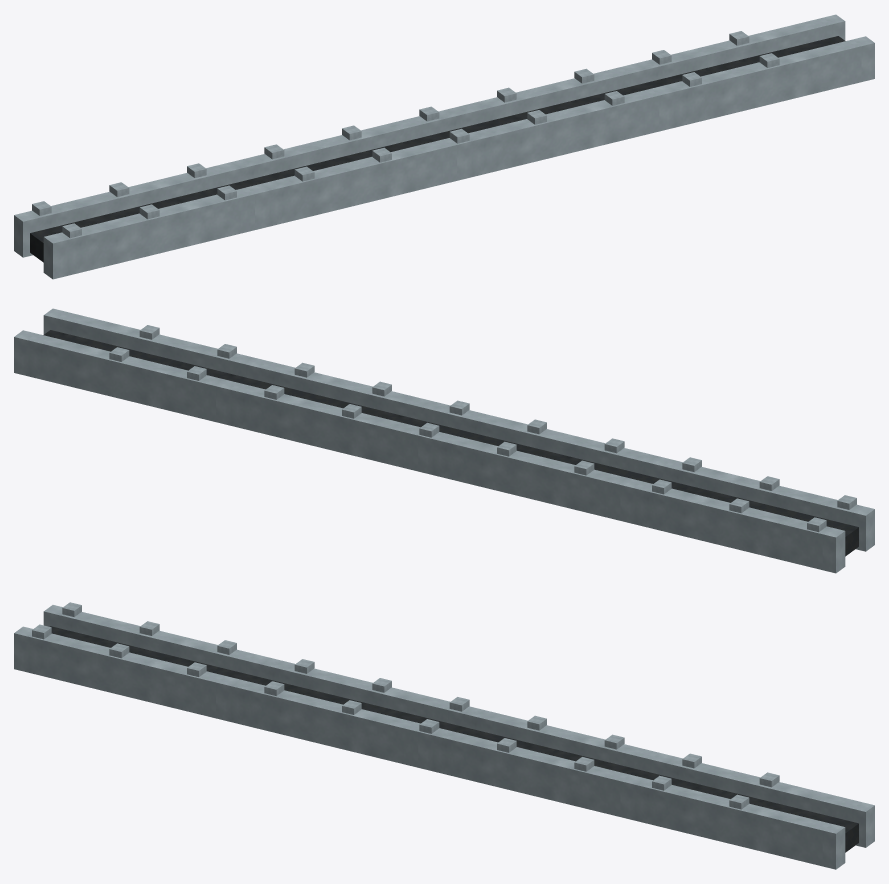
File: PZ_Caldera_ExpansionJoint_2p4m.glb
3 renders of one model, top to bottom at view 1: azimuth 30°, elevation 25°; view 2: azimuth 150°, elevation 25°; view 3: azimuth 330°, elevation 25°, orthographic.
Parts seen in each view (by area): view 1: PZ_Caldera_ExpansionJoint_2p4m_NEAR_STAINLESS_NOSING, PZ_Caldera_ExpansionJoint_2p4m_FAR_STAINLESS_NOSING, PZ_Caldera_ExpansionJoint_2p4m_BLACK_EPDM_FULL_WIDTH_SEAL, PZ_Caldera_ExpansionJoint_2p4m_BOLTS; view 2: PZ_Caldera_ExpansionJoint_2p4m_FAR_STAINLESS_NOSING, PZ_Caldera_ExpansionJoint_2p4m_NEAR_STAINLESS_NOSING, PZ_Caldera_ExpansionJoint_2p4m_BLACK_EPDM_FULL_WIDTH_SEAL, PZ_Caldera_ExpansionJoint_2p4m_BOLTS; view 3: PZ_Caldera_ExpansionJoint_2p4m_NEAR_STAINLESS_NOSING, PZ_Caldera_ExpansionJoint_2p4m_FAR_STAINLESS_NOSING, PZ_Caldera_ExpansionJoint_2p4m_BLACK_EPDM_FULL_WIDTH_SEAL, PZ_Caldera_ExpansionJoint_2p4m_BOLTS.
Boxes of the visible parts, box(x1,y1,x2,y2) form: PZ_Caldera_ExpansionJoint_2p4m_NEAR_STAINLESS_NOSING: box(43, 36, 874, 279); PZ_Caldera_ExpansionJoint_2p4m_FAR_STAINLESS_NOSING: box(14, 14, 845, 257); PZ_Caldera_ExpansionJoint_2p4m_BLACK_EPDM_FULL_WIDTH_SEAL: box(30, 36, 845, 262); PZ_Caldera_ExpansionJoint_2p4m_BOLTS: box(32, 31, 779, 238); PZ_Caldera_ExpansionJoint_2p4m_FAR_STAINLESS_NOSING: box(14, 330, 845, 573); PZ_Caldera_ExpansionJoint_2p4m_NEAR_STAINLESS_NOSING: box(43, 308, 874, 551); PZ_Caldera_ExpansionJoint_2p4m_BLACK_EPDM_FULL_WIDTH_SEAL: box(43, 330, 858, 556); PZ_Caldera_ExpansionJoint_2p4m_BOLTS: box(109, 325, 856, 532); PZ_Caldera_ExpansionJoint_2p4m_NEAR_STAINLESS_NOSING: box(14, 626, 845, 869); PZ_Caldera_ExpansionJoint_2p4m_FAR_STAINLESS_NOSING: box(43, 605, 874, 847); PZ_Caldera_ExpansionJoint_2p4m_BLACK_EPDM_FULL_WIDTH_SEAL: box(50, 626, 858, 852); PZ_Caldera_ExpansionJoint_2p4m_BOLTS: box(32, 602, 779, 809).
Bounding box in the file's own units: 2.44 × 0.122 × 0.2.
Materials: 2 (2 with a texture image).
